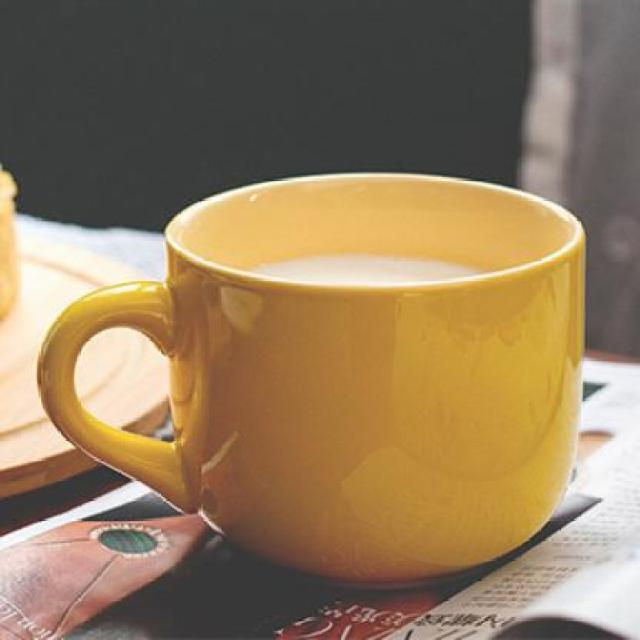cup: (31, 162, 592, 590)
